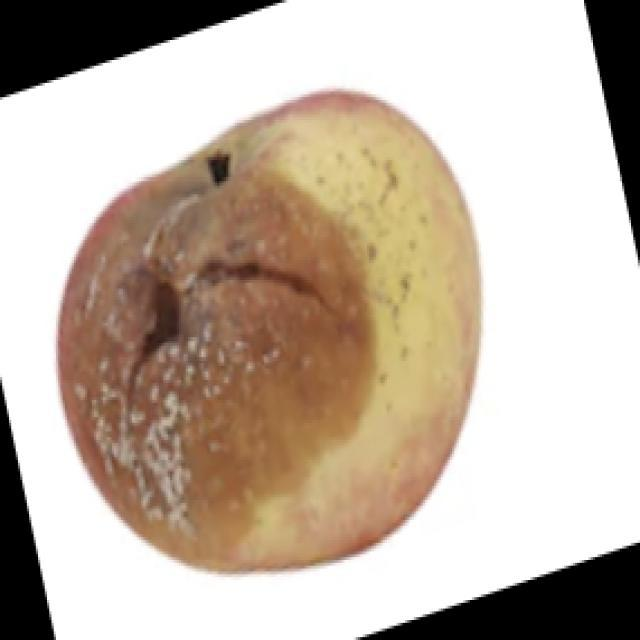Rotten: (53, 91, 479, 575)
